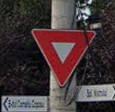cedeaza: (28, 26, 98, 90)
